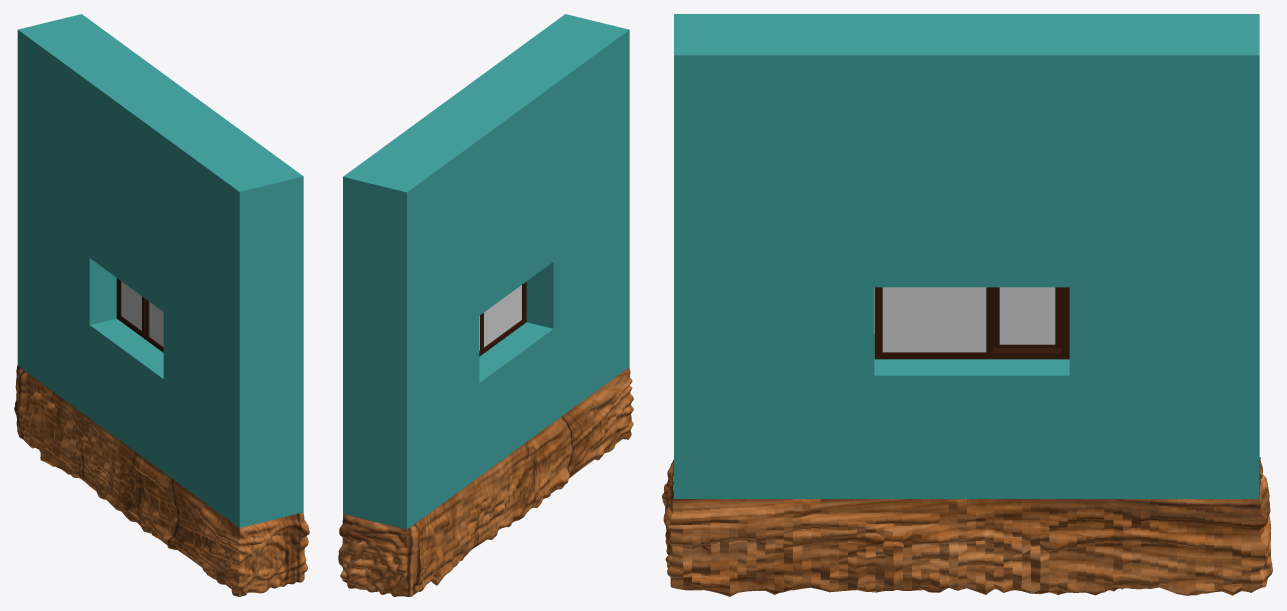
File: wall.fbx
3 renders of one model, left to right at view 1: azimuth 30°, elevation 25°; view 2: azimuth 150°, elevation 25°; view 3: azimuth 270°, elevation 25°, orthographic. The views are drawn at different scales.
Parts seen in each view (by area): view 1: Parede, High Poly, Janela; view 2: Parede, High Poly, Janela; view 3: Parede, High Poly, Janela.
Part boxes in pixels (x1,y1,x2,y2): Parede: (17,14,303,527); High Poly: (14,365,309,596); Janela: (116,278,163,352); Parede: (343,14,629,529); High Poly: (338,367,633,596); Janela: (479,281,526,356); Parede: (674,14,1259,498); High Poly: (662,457,1272,596); Janela: (874,287,1069,359).
Bounding box in the file's own units: 126 × 616 × 626.
5 materials, 2 textured.
